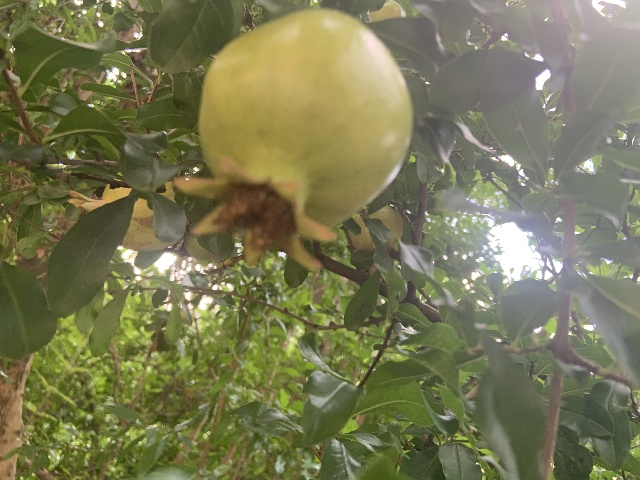mid-growth: (171, 8, 413, 276), (66, 171, 175, 251), (349, 204, 404, 276), (183, 231, 243, 274)
